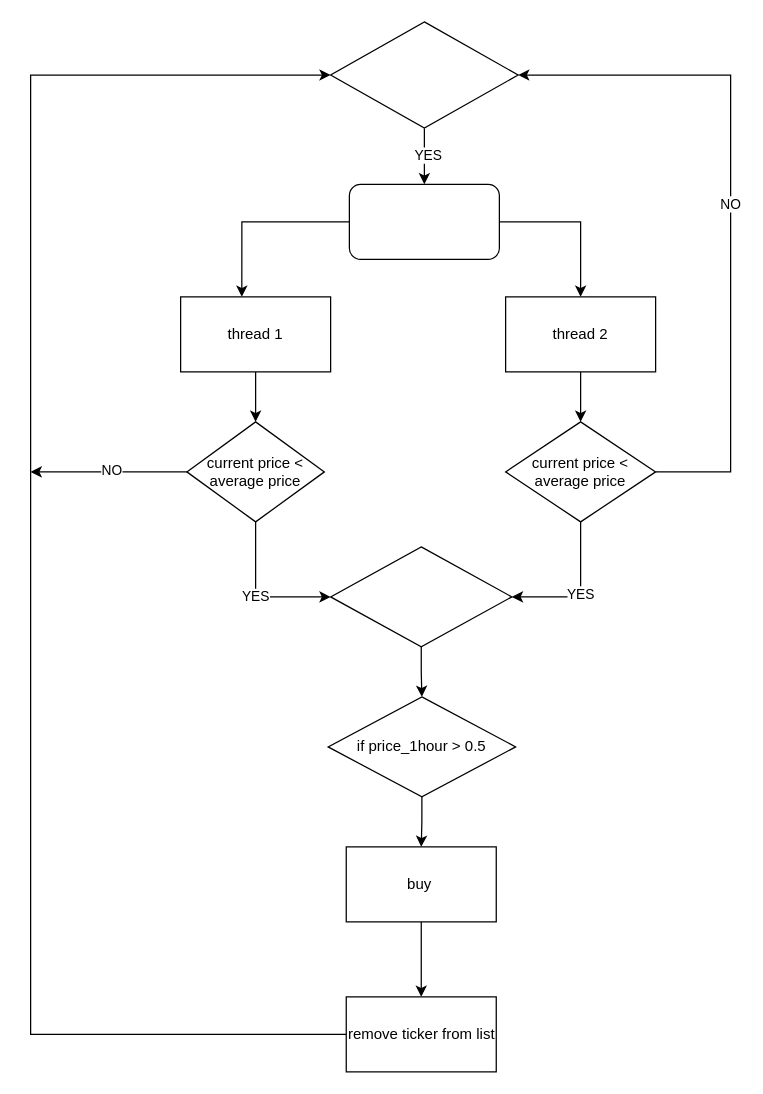
Image size: 763x1094. Some labels were removed from this diagram. Here are the shapes that lost their labels. From the top down, the centre of each, then its label:
At (x=423, y=74): "if market_open = true".
At (x=423, y=221): "create thread pool by ticker list".
At (x=420, y=596): "if market_open".
